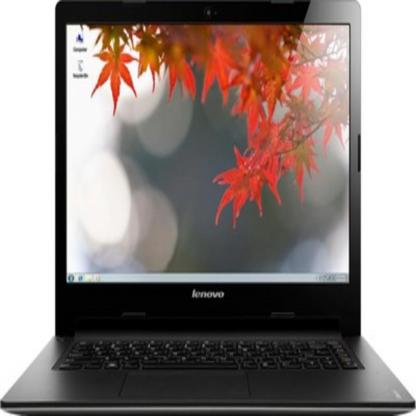board: (35, 0, 366, 416)
